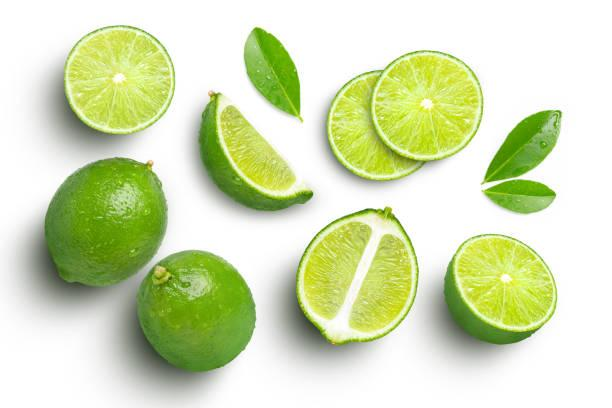lime: (325, 52, 485, 186), (35, 152, 168, 293), (300, 200, 421, 354), (140, 246, 262, 381), (195, 88, 315, 221), (439, 228, 560, 354), (62, 19, 178, 142)
